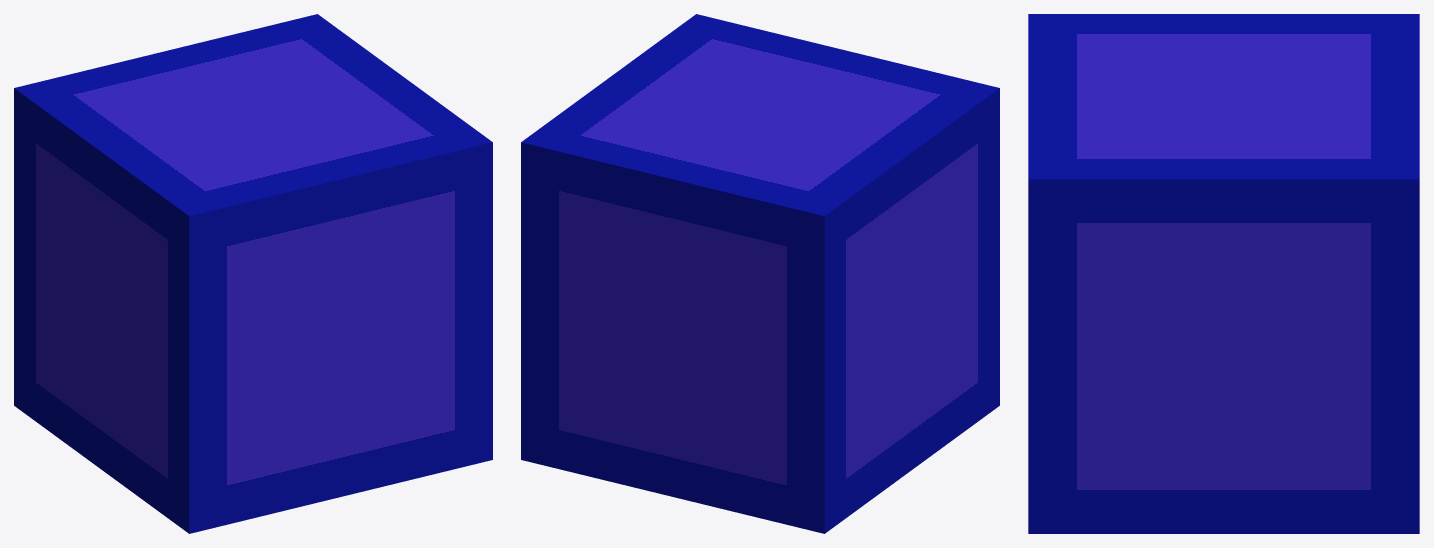
The picture shows the model from 3 angles, left to right: view 1: azimuth 30°, elevation 25°; view 2: azimuth 150°, elevation 25°; view 3: azimuth 270°, elevation 25°; orthographic projection. The views are drawn at different scales.
Parts seen in each view (by area): view 1: body_8; view 2: body_8; view 3: body_8.
Boxes of the visible parts, left/top/right/bottom form: body_8: left=14, top=14, right=492, bottom=533; body_8: left=521, top=14, right=999, bottom=533; body_8: left=1028, top=14, right=1419, bottom=533.
Bounding box in the file's own units: 0.5 × 0.5 × 0.5.
Materials: 1 (1 with a texture image).
